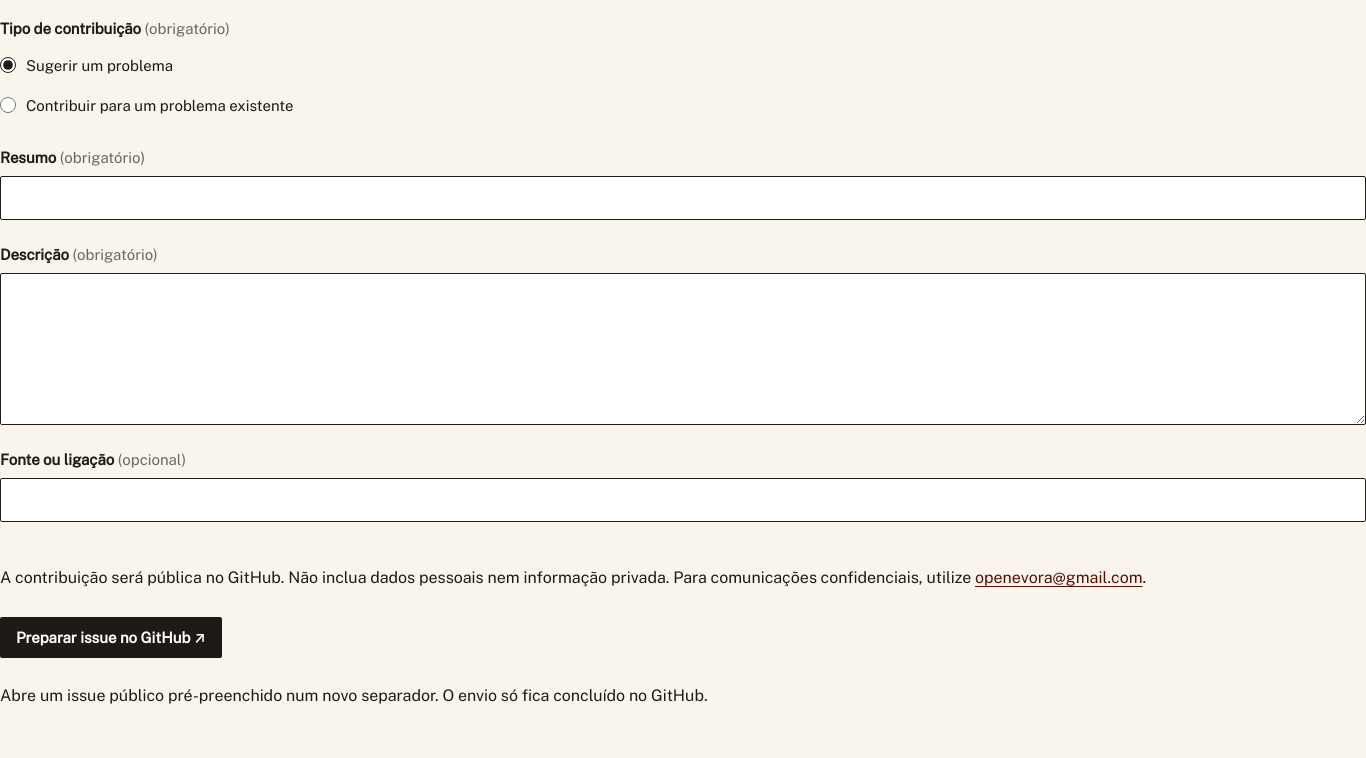
Test case: ContributionForm — GitHub handoff › shows the durable recovery panel when opening GitHub is blocked
Step 1. Type "Resumo" into the field labelled "Resumo (obrigatório)" → (683, 198), box [0,176,1365,220]
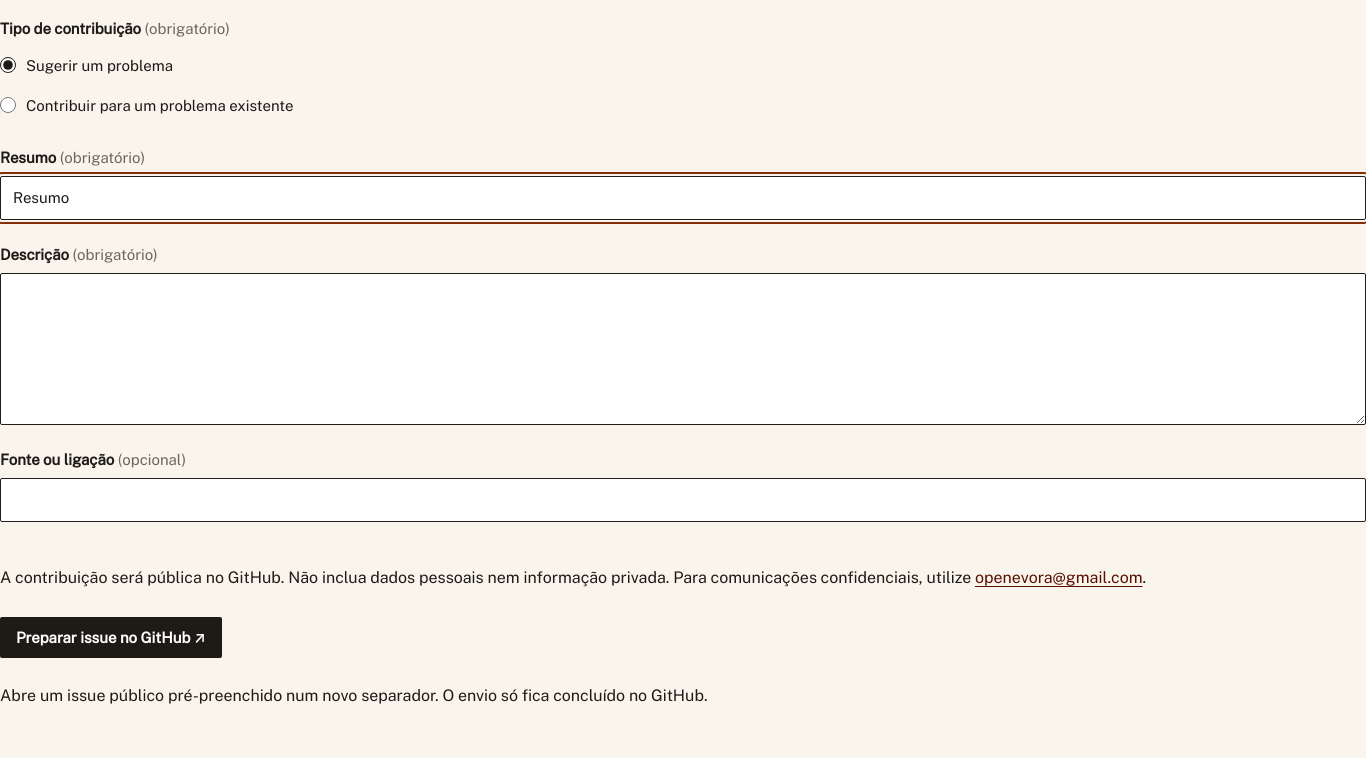
Step 2. Type "Descrição" into the text box labelled "Descrição (obrigatório)" → (683, 349), box [0,273,1365,425]
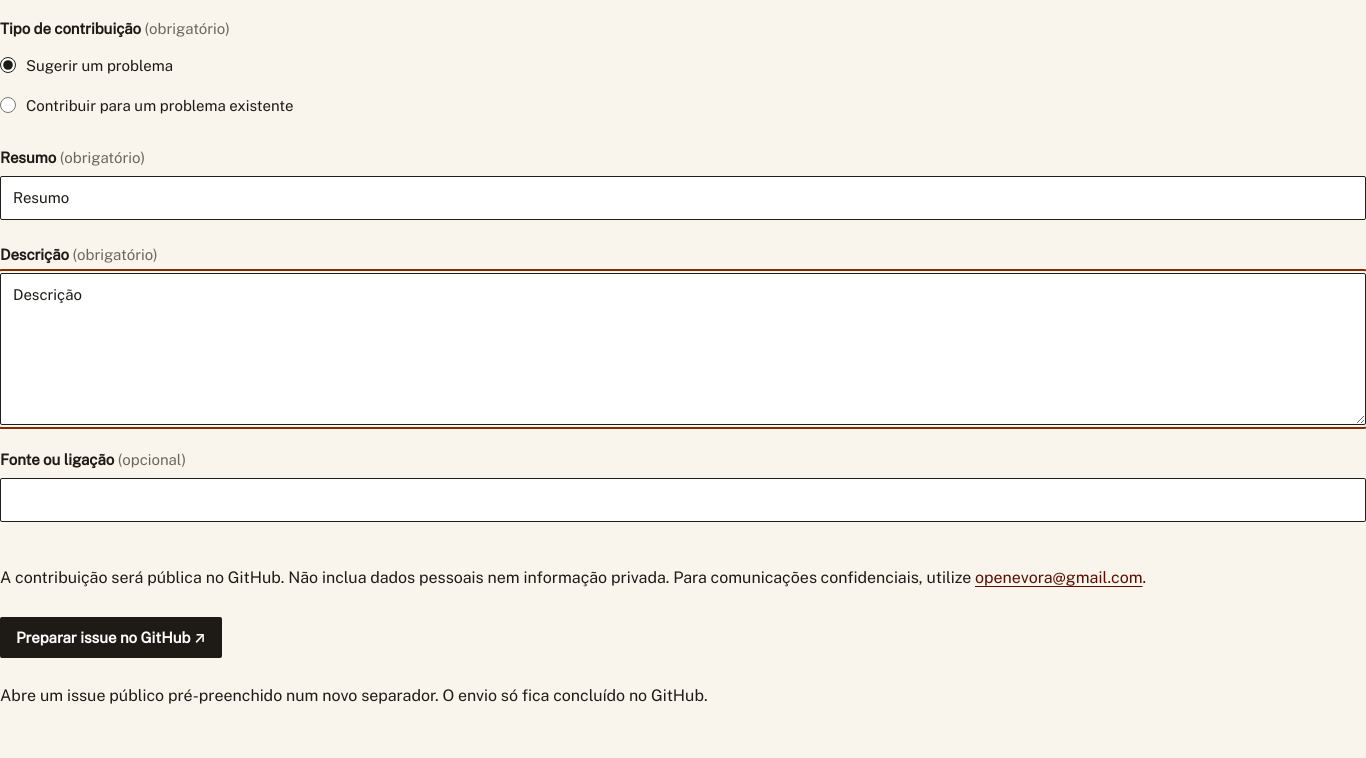
Step 3. Click the button "Preparar issue no GitHub ↗" → (111, 638), box [0,617,222,658]
(page scrolled)
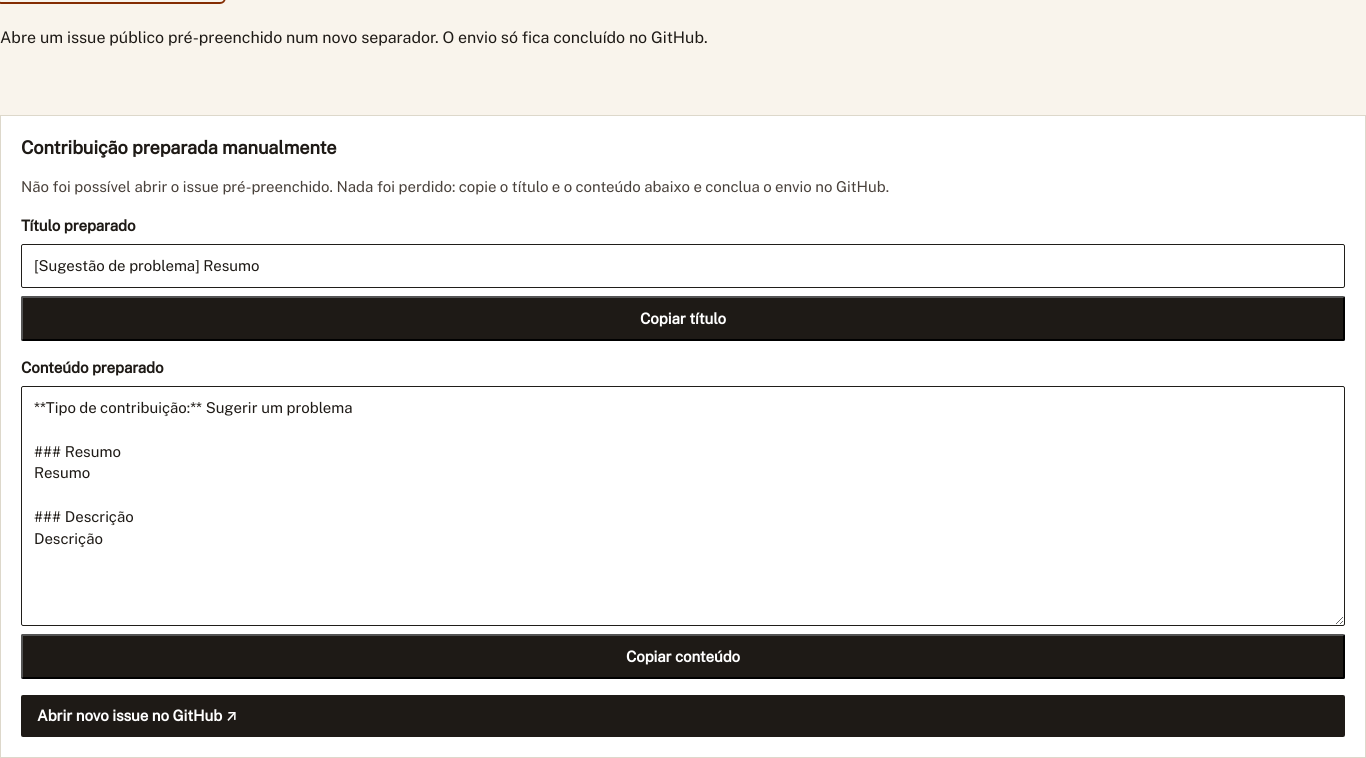
Expected: the heading "Contribuição preparada manualmente" is shown, [21,137,336,158]
Expected: the field labelled "Título preparado" is shown, [21,244,1345,288]
Expected: the text box labelled "Conteúdo preparado" is shown, [21,386,1345,626]
